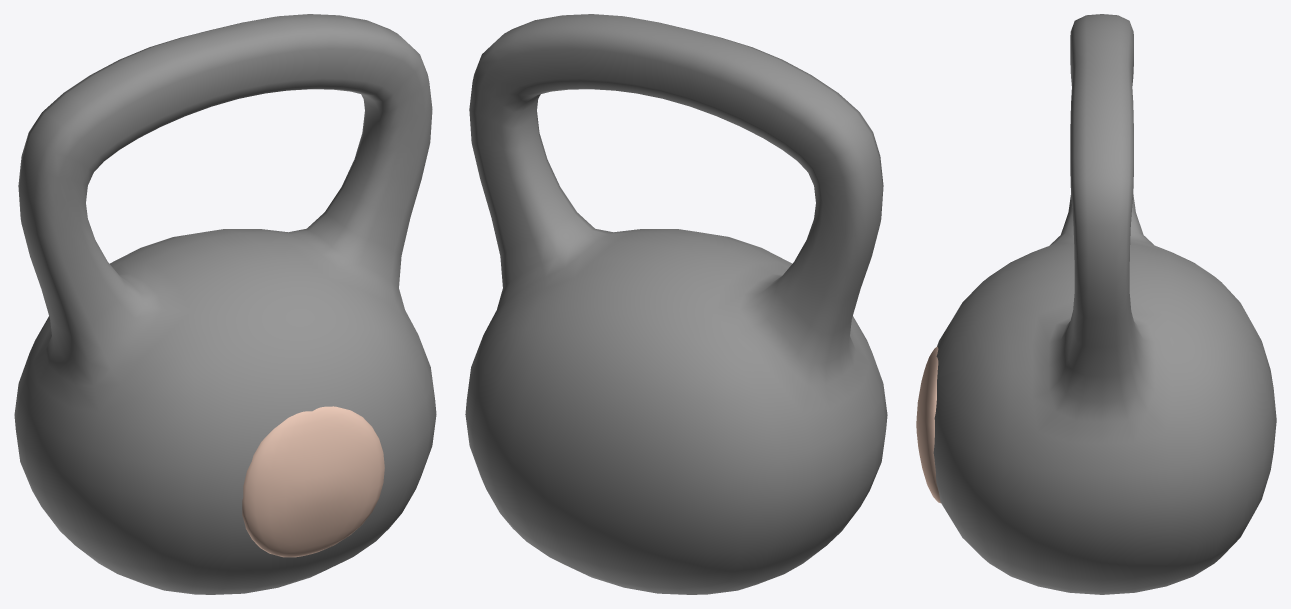
The model's file is kettlebell.fbx.
3 views of the same model, side by side, from view 1: azimuth 30°, elevation 25°; view 2: azimuth 150°, elevation 25°; view 3: azimuth 270°, elevation 25° (orthographic). The views are drawn at different scales.
Visible parts, largest first — view 1: kettlebell; view 2: kettlebell; view 3: kettlebell.
Part boxes in pixels (left/top/right/bottom): kettlebell: left=14, top=14, right=436, bottom=594; kettlebell: left=465, top=14, right=887, bottom=594; kettlebell: left=916, top=14, right=1276, bottom=594.
Size of the model in its own units: 287 by 367 by 236.
